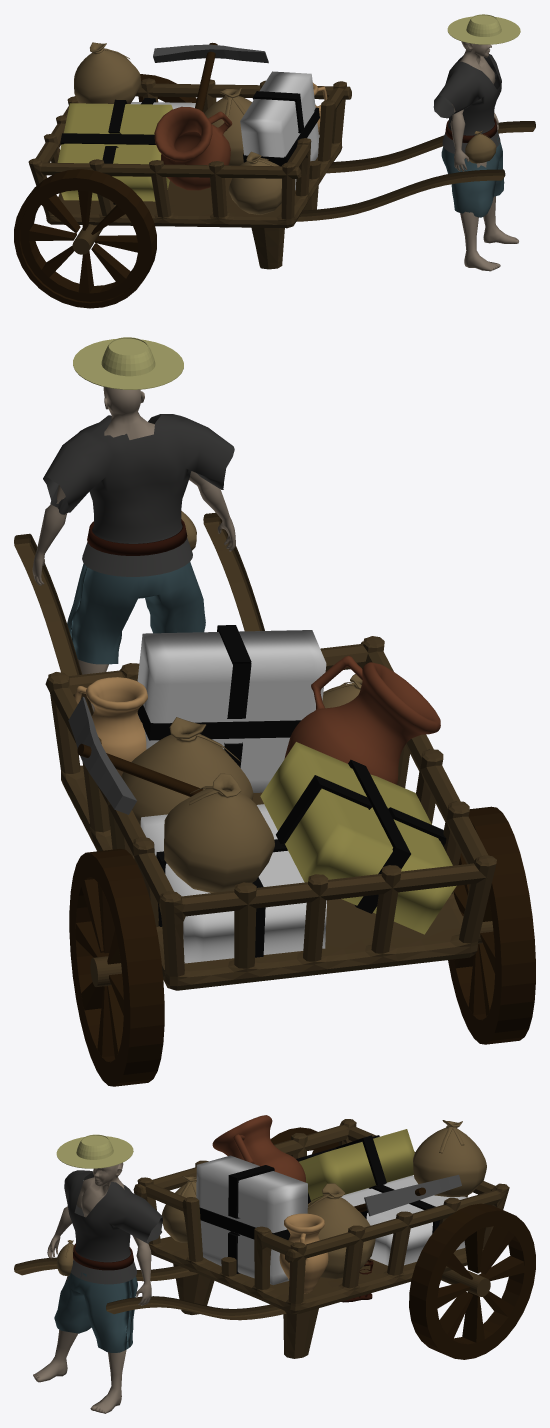
File: settler.dae
3 renders of one model, top to bottom at view 1: azimuth 30°, elevation 25°; view 2: azimuth 150°, elevation 25°; view 3: azimuth 270°, elevation 25°, orthographic. The views are drawn at different scales.
Visible parts, largest first — view 1: Cube, wheel, Cube_002, Cube_004, Plane, jacket, Human_000, Plane_009, handle_001, pants, Plane_005, hat (+11 smaller); view 2: Cube, jacket, Circle_002, Cube_004, Cube_002, wheel, Plane, Plane_009, pants, Cube_001, bag, Human_000 (+12 smaller); view 3: Cube, Circle_002, Cube_004, jacket, Human_000, Cube_002, pants, Plane_009, Plane, bag, Cube_001, hat (+12 smaller).
Part boxes in pixels (x1,y1,x2,y2): Cube: (28, 78, 351, 269); wheel: (14, 169, 156, 308); Cube_002: (57, 103, 172, 201); Cube_004: (240, 71, 318, 190); Plane: (154, 106, 232, 190); jacket: (433, 54, 501, 153); Human_000: (450, 41, 518, 271); Plane_009: (74, 42, 140, 103); handle_001: (296, 169, 505, 221); pants: (441, 137, 504, 217); Plane_005: (228, 151, 281, 214); hat: (447, 14, 520, 44); Cube: (45, 636, 496, 990); jacket: (43, 414, 234, 576); Circle_002: (69, 849, 164, 1086); Cube_004: (137, 630, 326, 792); Cube_002: (260, 742, 456, 934); wheel: (448, 806, 535, 1044); Plane: (284, 655, 440, 784); Plane_009: (164, 773, 274, 892); pants: (67, 562, 205, 664); Cube_001: (140, 804, 326, 963); bag: (121, 717, 253, 825); Human_000: (32, 386, 235, 711); Cube: (133, 1119, 509, 1358); Circle_002: (409, 1203, 535, 1359); Cube_004: (196, 1155, 307, 1285); jacket: (64, 1170, 162, 1284); Human_000: (33, 1162, 151, 1413); Cube_002: (299, 1129, 414, 1202); pants: (54, 1272, 137, 1352); Plane_009: (413, 1120, 486, 1197); Plane: (212, 1115, 305, 1182); bag: (307, 1183, 375, 1278); Cube_001: (341, 1175, 467, 1265); hat: (56, 1134, 133, 1168).
Size of the model in its own units: 3.97 by 3.92 by 2.49.
